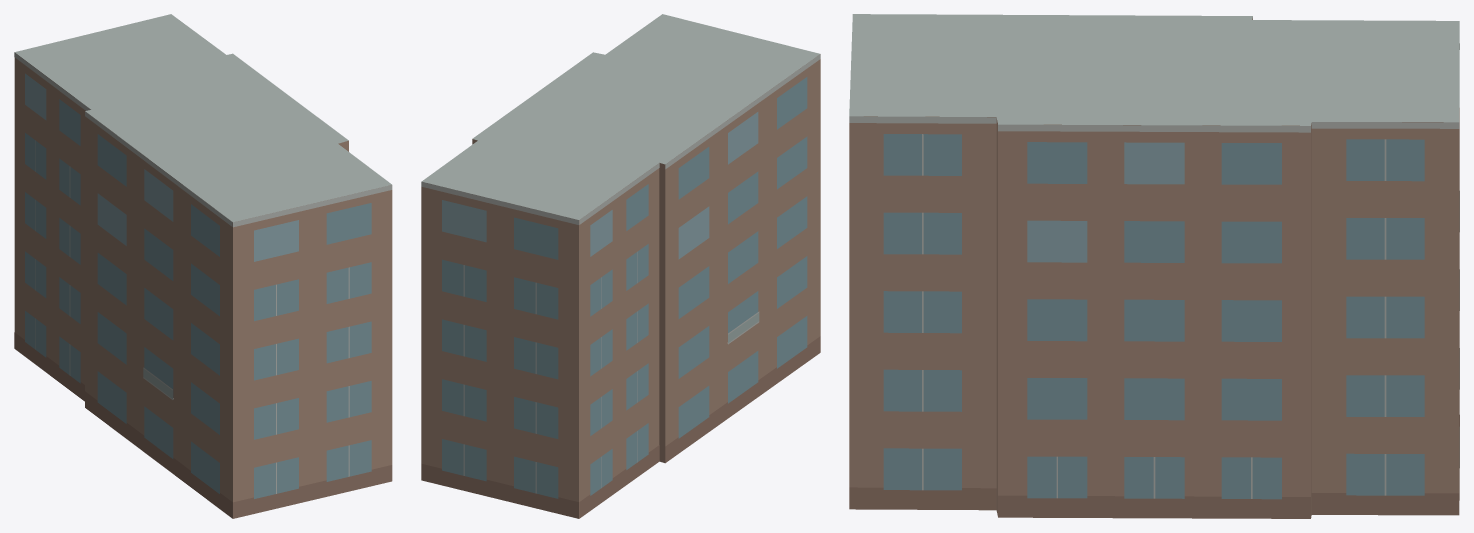
Rendered from survey-upis-32748783.glb.
The picture shows the model from 3 angles, left to right: view 1: azimuth 30°, elevation 25°; view 2: azimuth 150°, elevation 25°; view 3: azimuth 270°, elevation 25°; orthographic projection. The views are drawn at different scales.
Parts seen in each view (by area): view 1: survey-upis-32748783.tmp; view 2: survey-upis-32748783.tmp; view 3: survey-upis-32748783.tmp.
Part boxes in pixels (left/top/right/bottom): survey-upis-32748783.tmp: left=14, top=14, right=392, bottom=518; survey-upis-32748783.tmp: left=421, top=14, right=820, bottom=518; survey-upis-32748783.tmp: left=849, top=14, right=1459, bottom=518.
Size of the model in its own units: 8.74 by 14.3 by 20.14.
